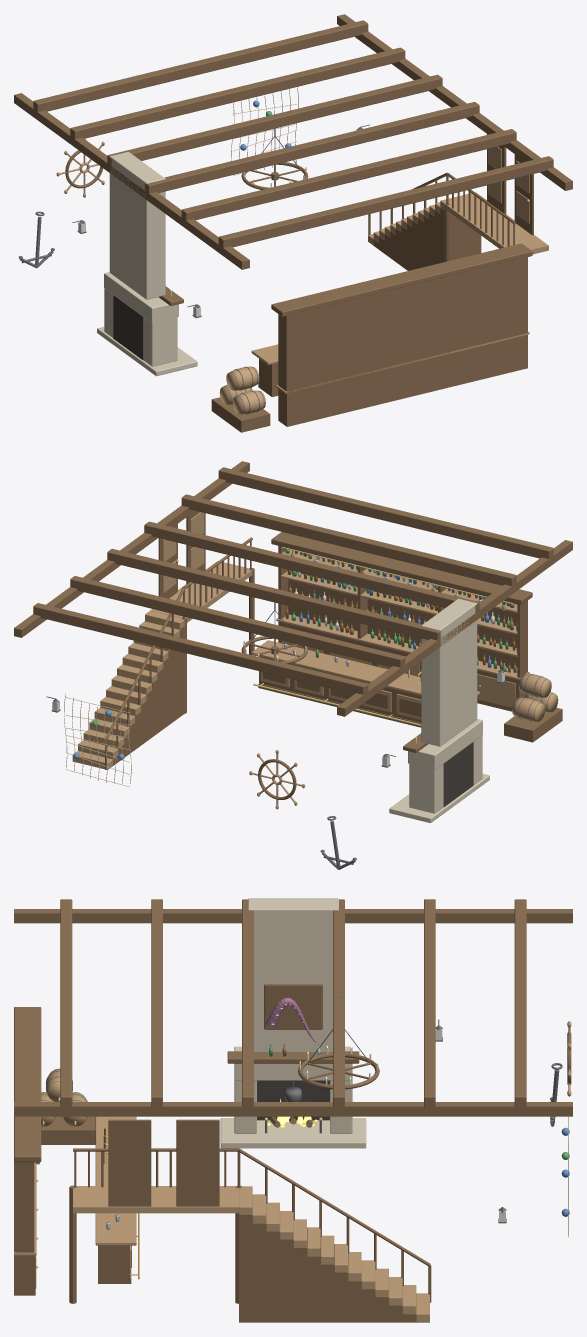
File: tavern_room.glb
3 views of the same model, one above another, from view 1: azimuth 30°, elevation 25°; view 2: azimuth 150°, elevation 25°; view 3: azimuth 270°, elevation 25° (orthographic). The views are drawn at different scales.
Parts seen in each view (by area): view 1: tavern_room; view 2: tavern_room; view 3: tavern_room.
Boxes of the visible parts, x1,y1,x2,y2 form: tavern_room: (14, 14, 572, 432); tavern_room: (14, 461, 572, 869); tavern_room: (14, 898, 572, 1322).
Bounding box in the file's own units: 10.41 × 5.5 × 12.3.
